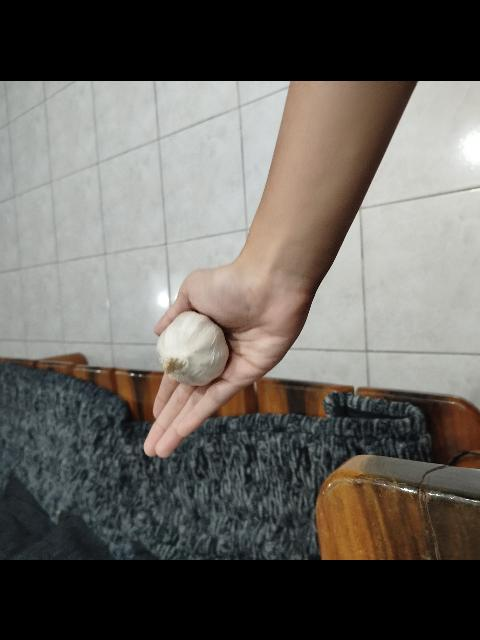garlic: (156, 309, 230, 385)
